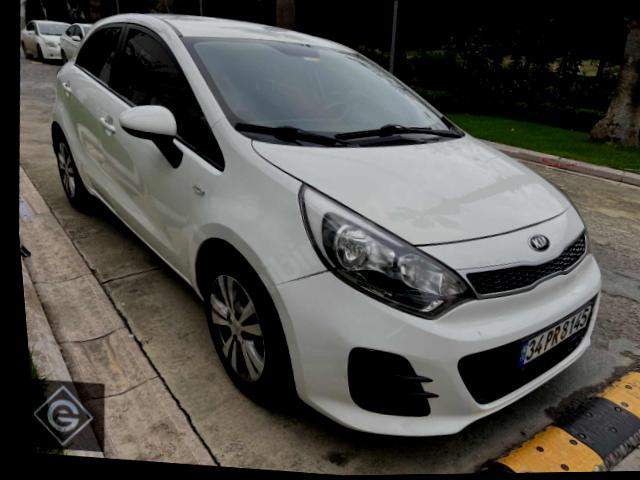plaka: (516, 305, 590, 369)
